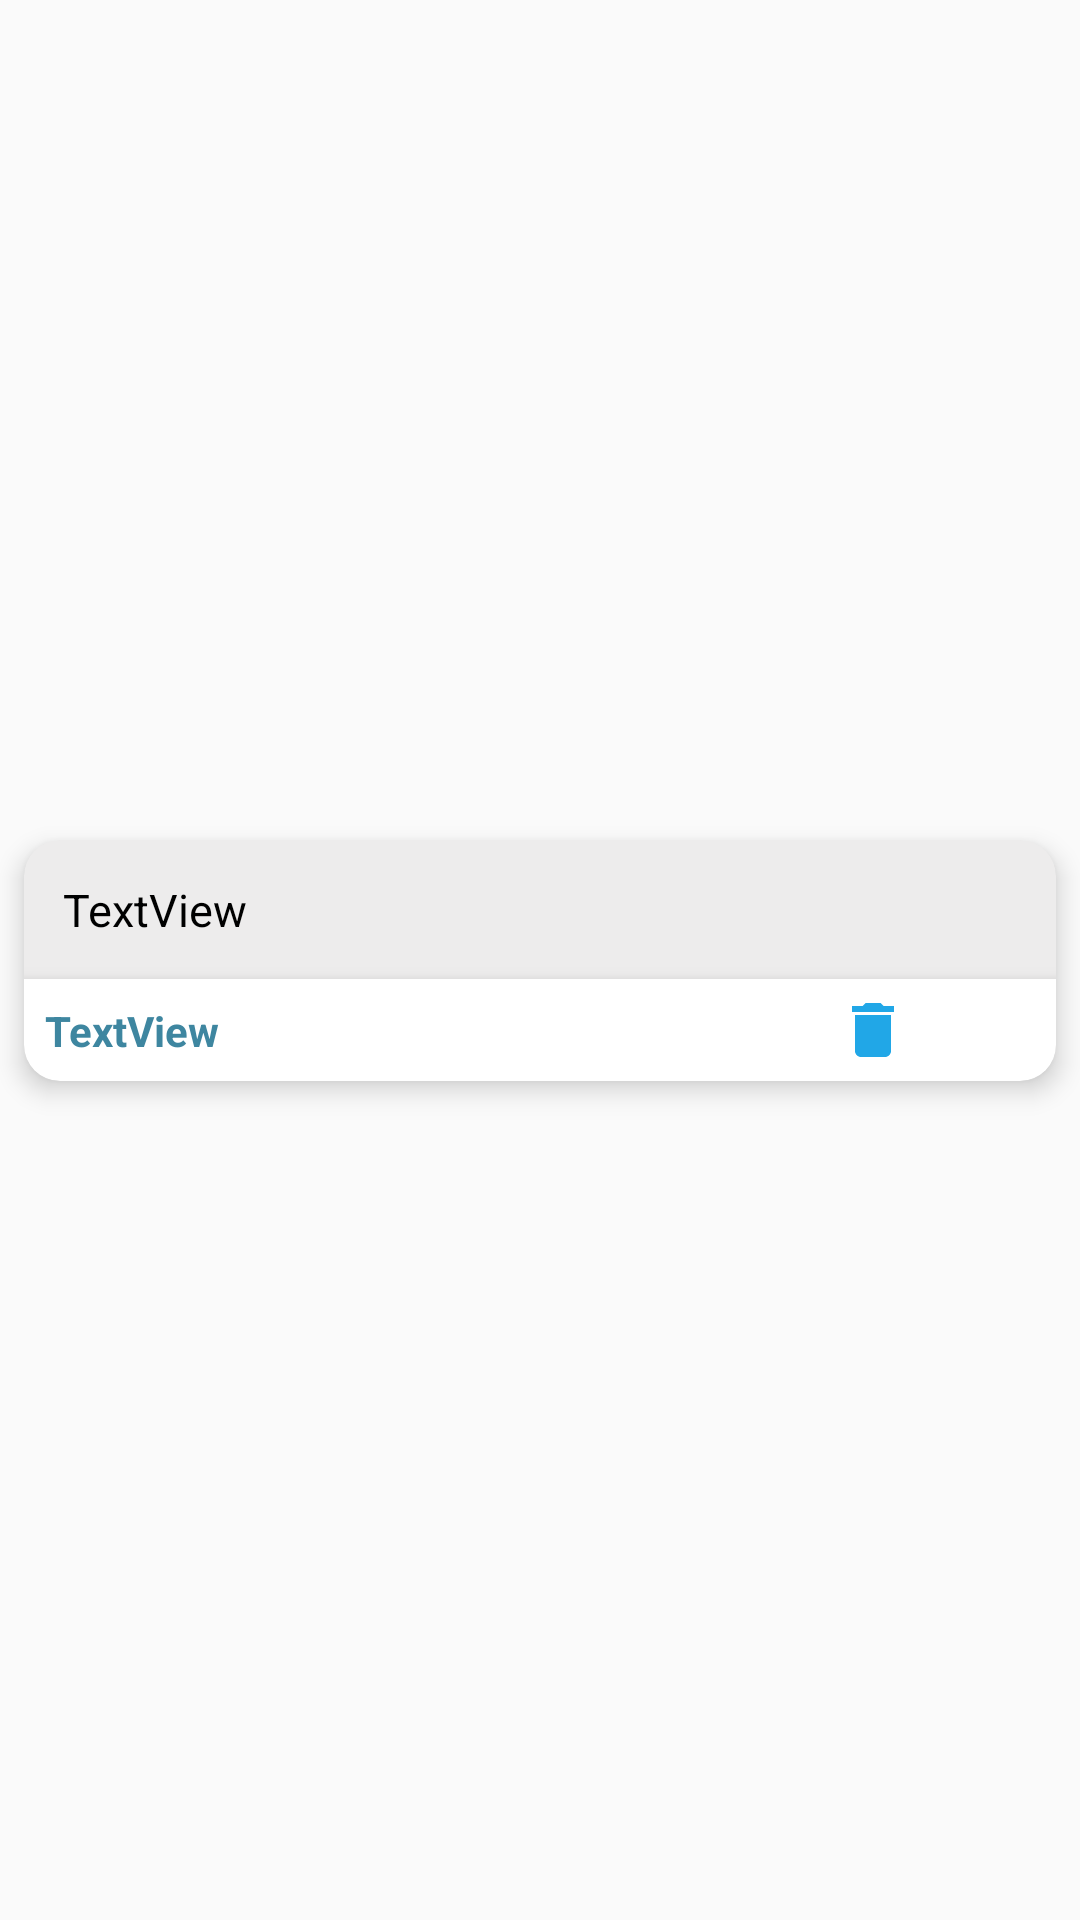

Point at icon controls on the screen. Image size 1080*1920, points as (x=x, y=y).
delete: (x=873, y=1030)
